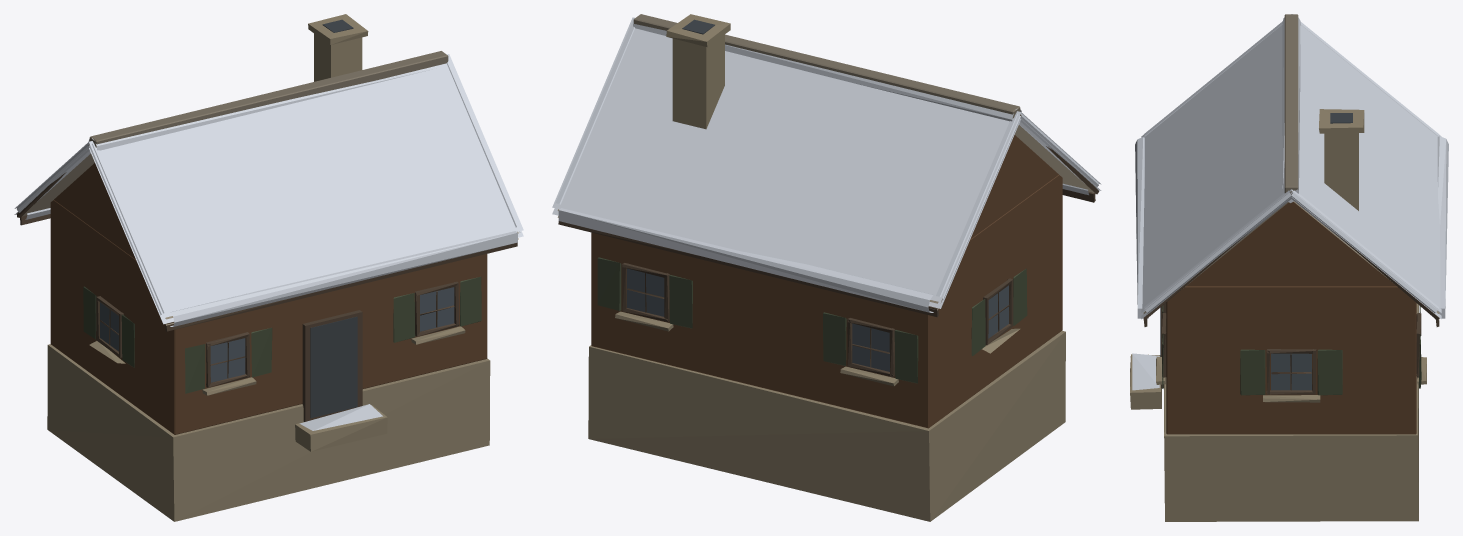
Rendered from house-stone-snow-lod1.glb.
3 renders of one model, left to right at view 1: azimuth 30°, elevation 25°; view 2: azimuth 150°, elevation 25°; view 3: azimuth 270°, elevation 25°, orthographic. The views are drawn at different scales.
Size of the model in its own units: 9.2 by 9.04 by 7.01.
